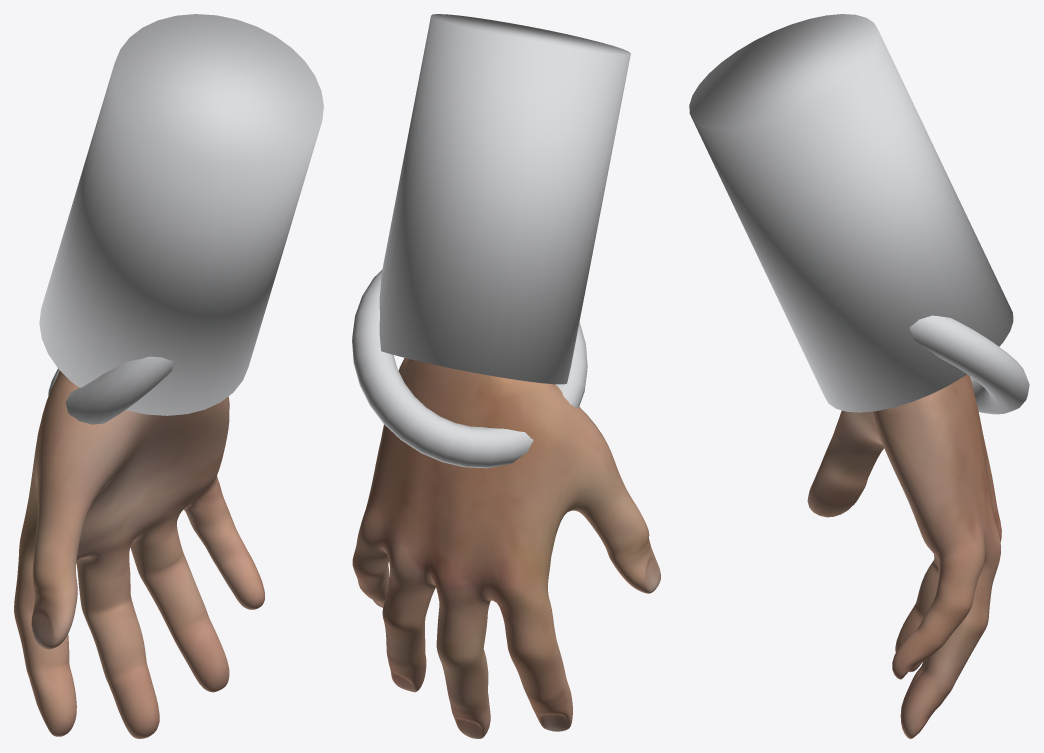
File: hand_palm.glb
The picture shows the model from 3 angles, left to right: view 1: azimuth 30°, elevation 25°; view 2: azimuth 150°, elevation 25°; view 3: azimuth 270°, elevation 25°; orthographic projection. The views are drawn at different scales.
Parts seen in each view (by area): view 1: sleeve, hand, cuff; view 2: sleeve, hand, cuff; view 3: sleeve, hand, cuff.
Boxes of the visible parts, left/top/right/bottom form: sleeve: left=39, top=14, right=323, bottom=415; hand: left=14, top=371, right=264, bottom=738; cuff: left=48, top=356, right=173, bottom=424; sleeve: left=379, top=14, right=630, bottom=384; hand: left=352, top=358, right=660, bottom=738; cuff: left=352, top=270, right=587, bottom=468; sleeve: left=689, top=14, right=1013, bottom=412; hand: left=807, top=374, right=1001, bottom=738; cuff: left=909, top=315, right=1029, bottom=414.
Bounding box in the file's own units: 0.1111 × 0.2949 × 0.1296.
2 materials, 1 textured.
